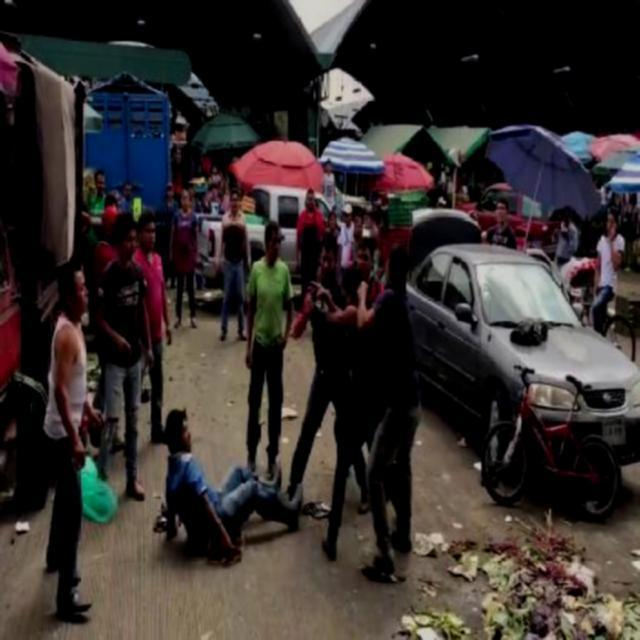fight: (316, 236, 416, 562)
non-fight: (162, 404, 300, 550), (46, 264, 96, 616), (99, 217, 150, 497), (243, 218, 283, 464)
